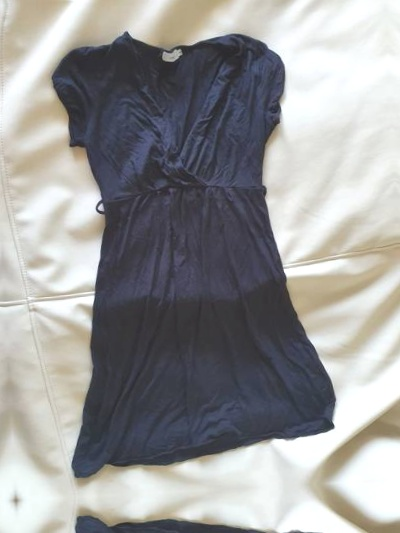Dress: (33, 13, 345, 457), (61, 524, 373, 533)
